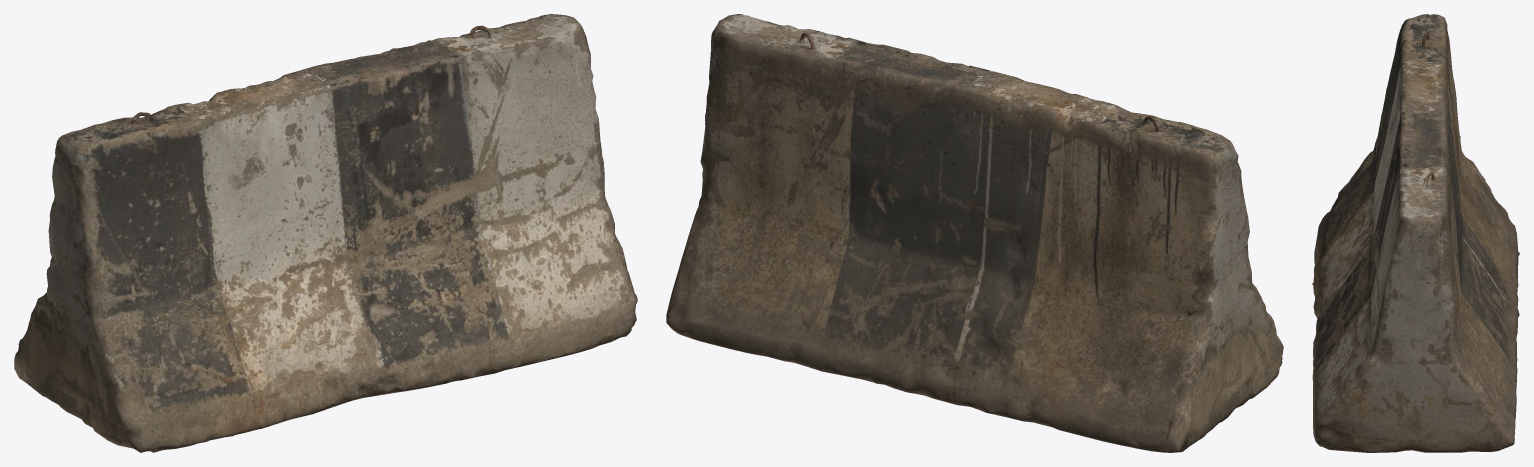
Rendered from obj-barrera.997f74.glb.
3 renders of one model, left to right at view 1: azimuth 30°, elevation 25°; view 2: azimuth 150°, elevation 25°; view 3: azimuth 270°, elevation 25°, orthographic. The views are drawn at different scales.
Visible parts, largest first — view 1: concrete_road_barrier; view 2: concrete_road_barrier; view 3: concrete_road_barrier.
Boxes of the visible parts, left/top/right/bottom form: concrete_road_barrier: left=14, top=14, right=637, bottom=452; concrete_road_barrier: left=666, top=14, right=1283, bottom=452; concrete_road_barrier: left=1312, top=14, right=1519, bottom=452.
Bounding box in the file's own units: 1.54 × 0.8303 × 0.6387.
Materials: 1 (1 with a texture image).
